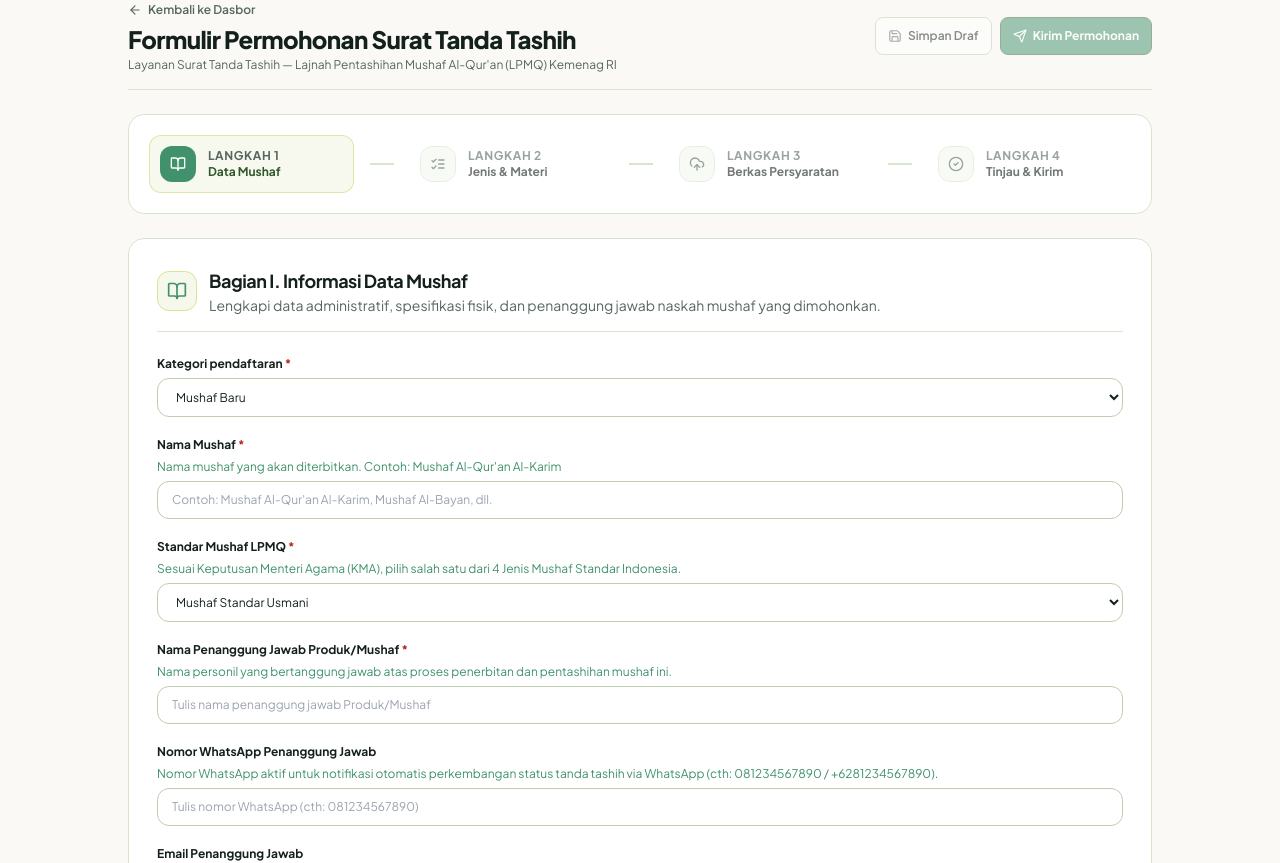
Publisher new registration handoff › menahan judul kurang dari 3 karakter dan menampilkan validasi di field
In the field labelled "Nama Mushaf *": (640, 500) [157,481,1123,519], type " A "
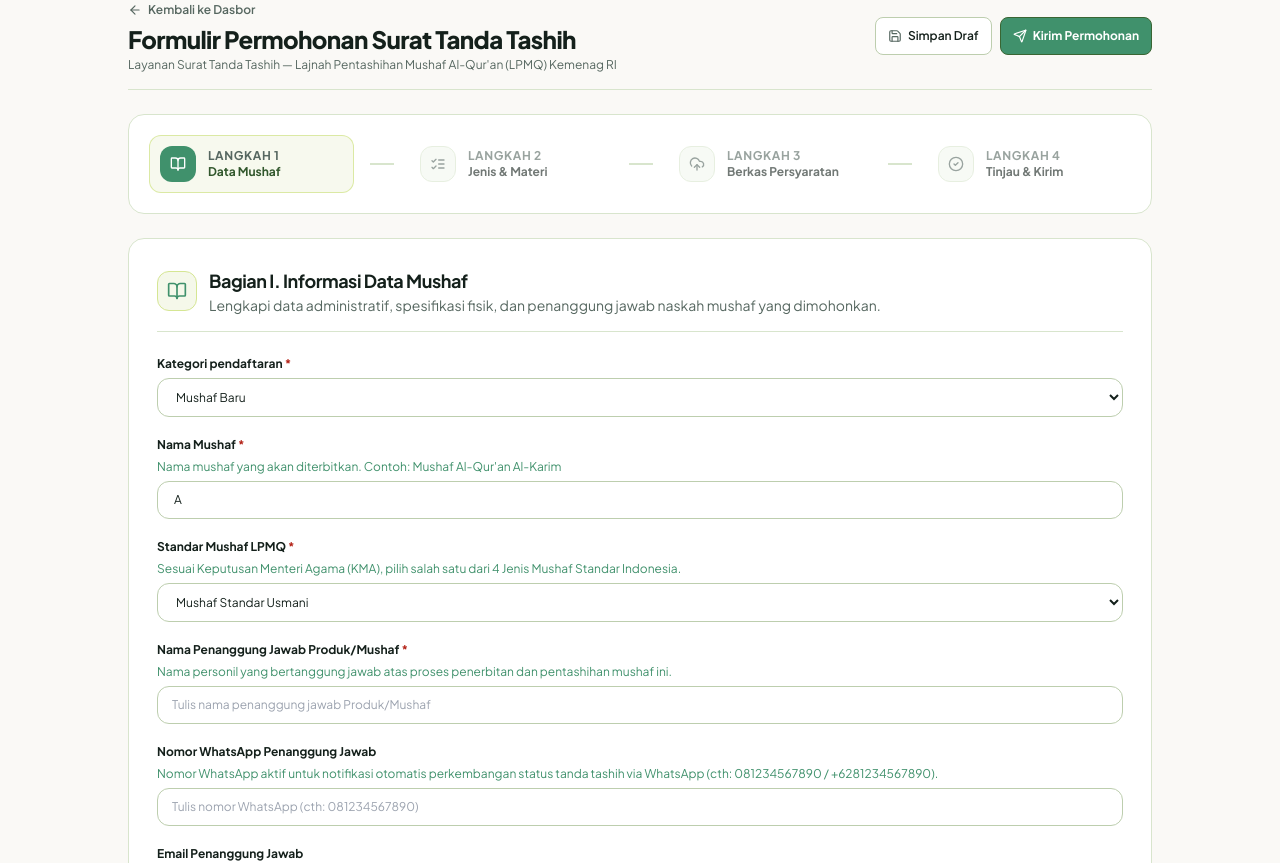
Click the button "Simpan Draf": (933, 36) [875,17,992,55]
(page scrolled)
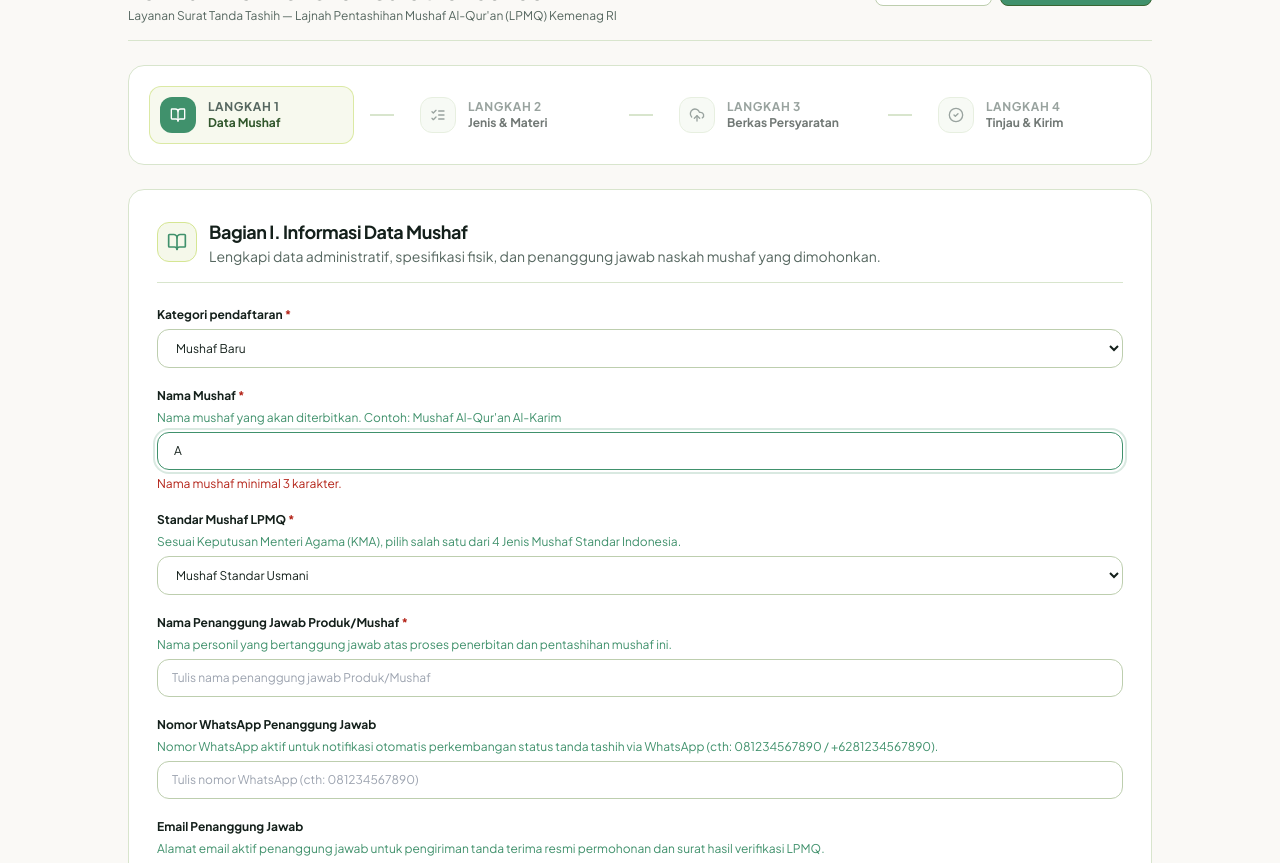
Check: the text "Nama mushaf minimal 3 karakter." is shown, box [157,476,342,491]
